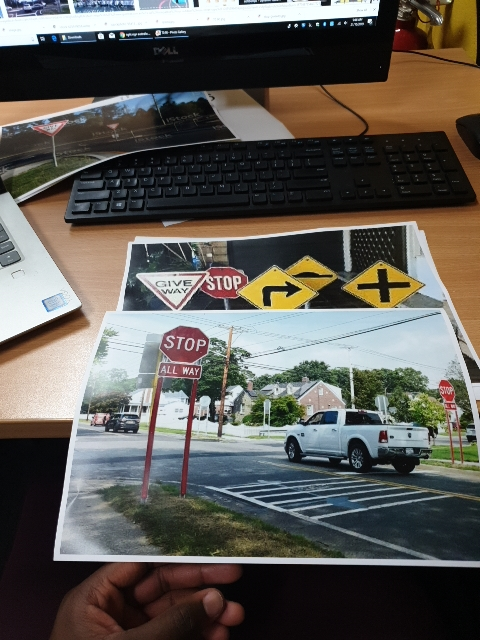giveway: (136, 263, 214, 319)
right: (232, 266, 320, 319)
stop: (148, 324, 230, 377), (193, 247, 247, 303)
